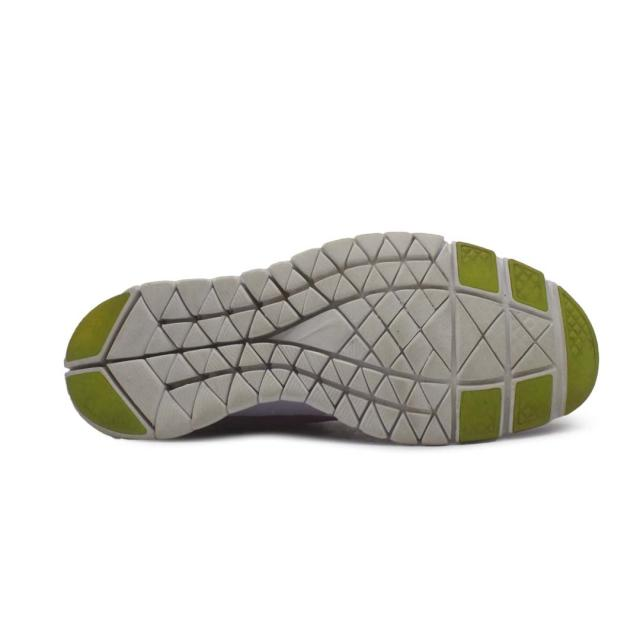outersole: (64, 238, 604, 445)
